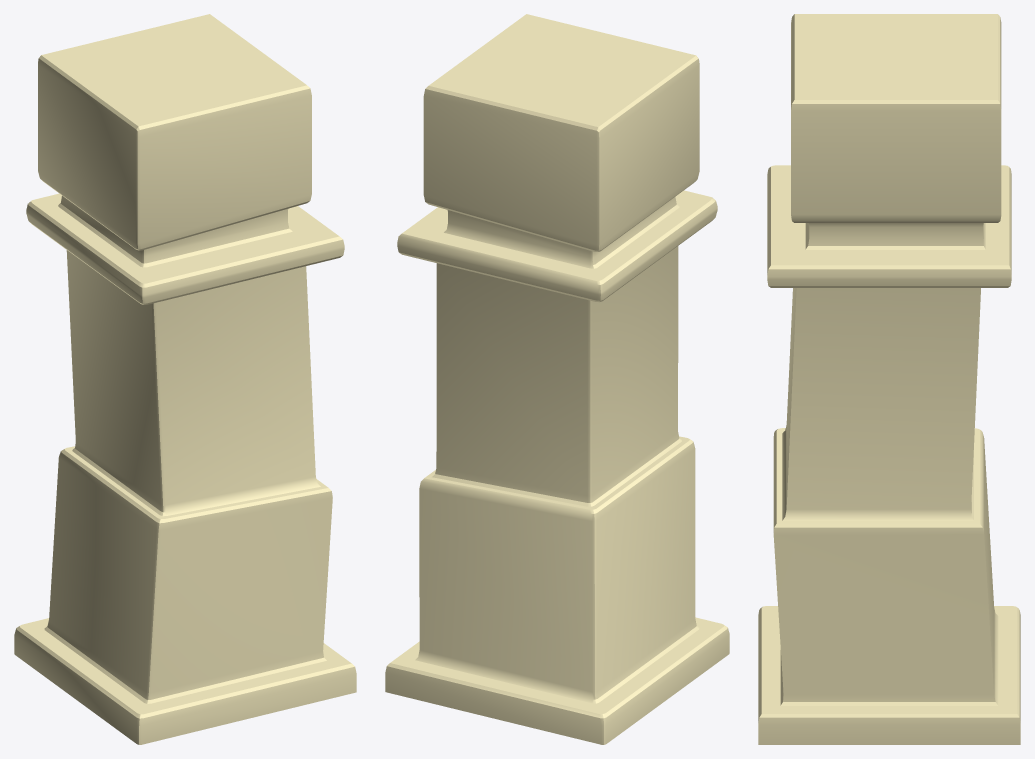
File: Pillar.fbx
3 views of the same model, side by side, from view 1: azimuth 30°, elevation 25°; view 2: azimuth 150°, elevation 25°; view 3: azimuth 270°, elevation 25° (orthographic). The views are drawn at different scales.
Visible parts, largest first — view 1: Cube; view 2: Cube; view 3: Cube.
Boxes of the visible parts, <box> form: Cube: <box>14,14,356,744</box>; Cube: <box>385,14,729,744</box>; Cube: <box>758,14,1020,744</box>.
Bounding box in the file's own units: 144 × 379 × 144.
